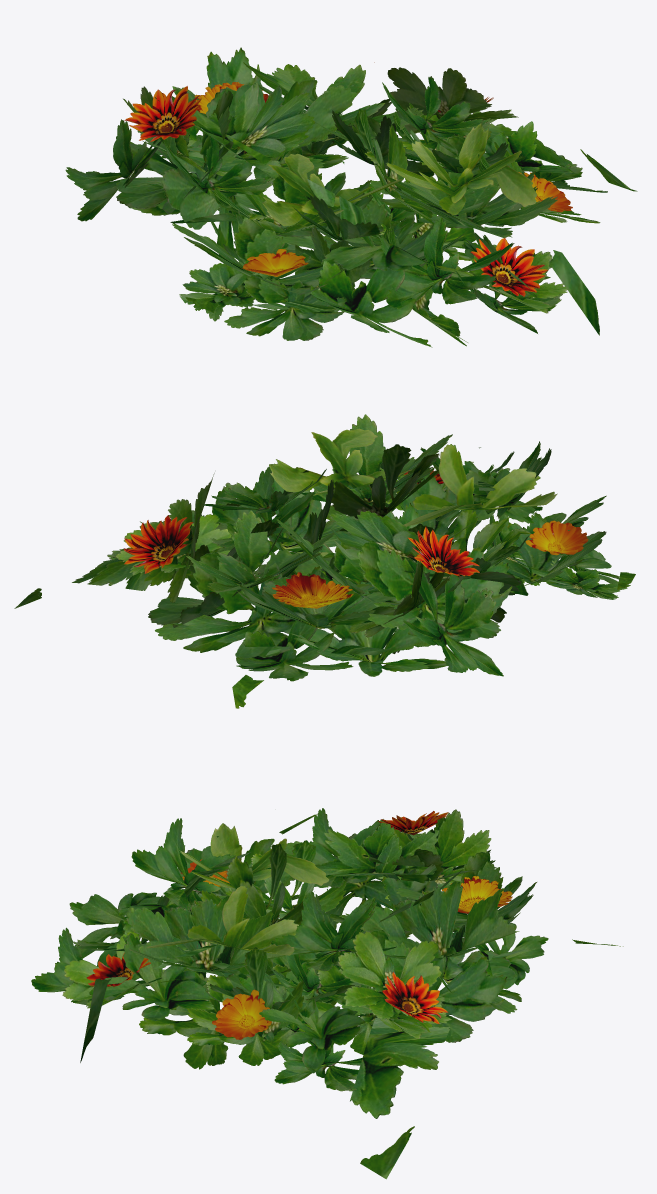
Rendered from Sponza97.gltf.
The picture shows the model from 3 angles, top to bottom: view 1: azimuth 30°, elevation 25°; view 2: azimuth 150°, elevation 25°; view 3: azimuth 270°, elevation 25°; orthographic projection. The views are drawn at different scales.
Size of the model in its own units: 0.5116 by 0.2163 by 0.5458.
Materials: 1 (1 with a texture image).
